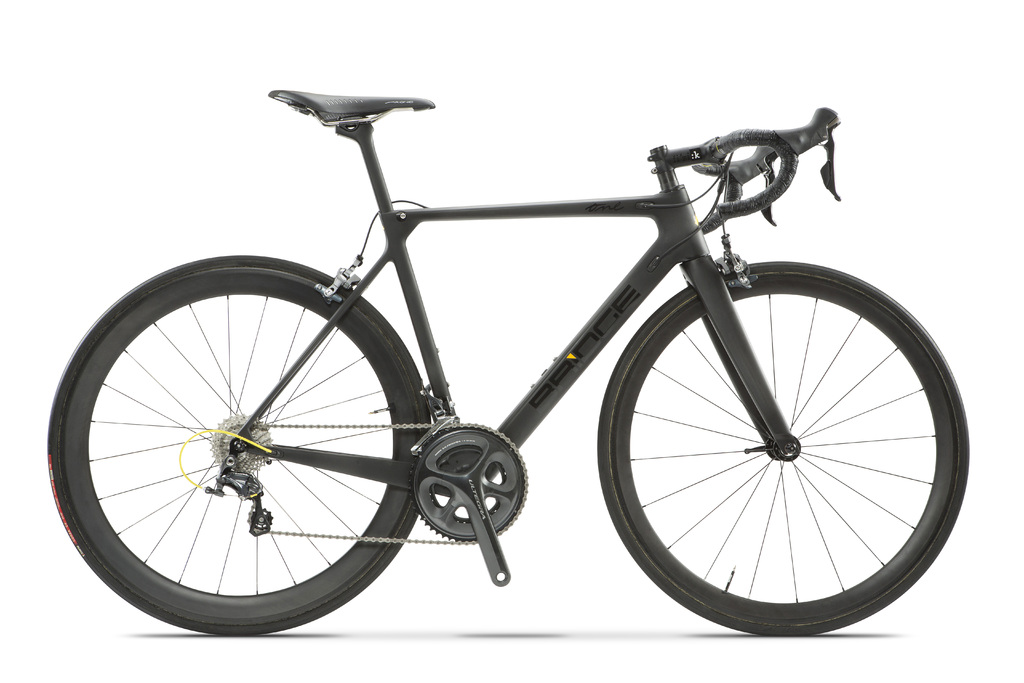Bike_toward: (184, 64, 916, 622)
